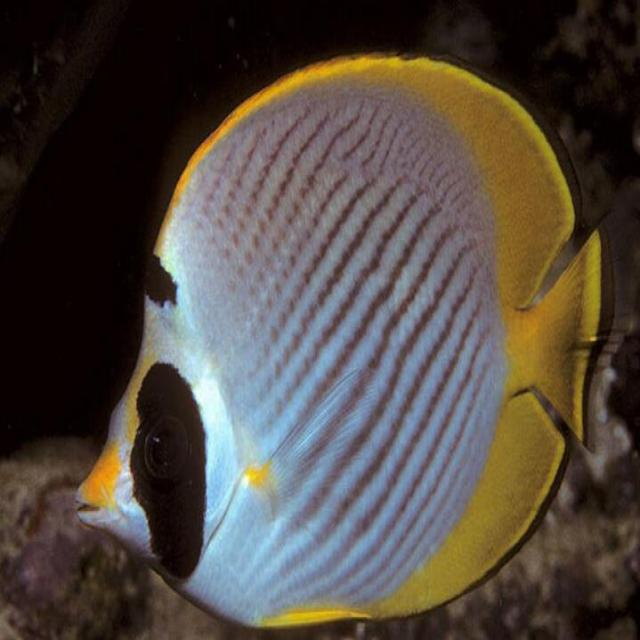ButterflyFish: (75, 57, 600, 634)
